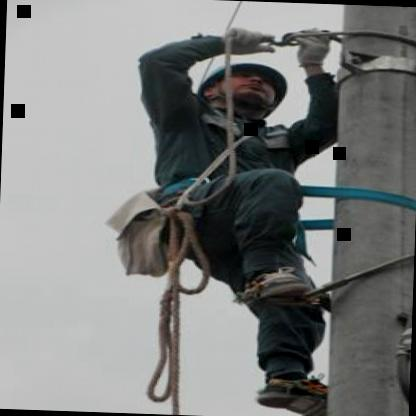helmet: (199, 40, 301, 123)
